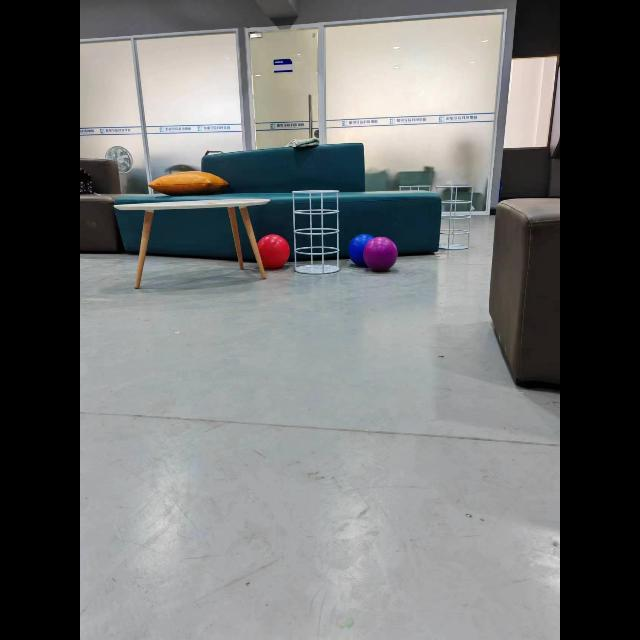B: (349, 234, 374, 266)
P: (364, 236, 398, 271)
R: (258, 234, 290, 269)
S: (292, 190, 340, 274), (436, 185, 472, 250)
